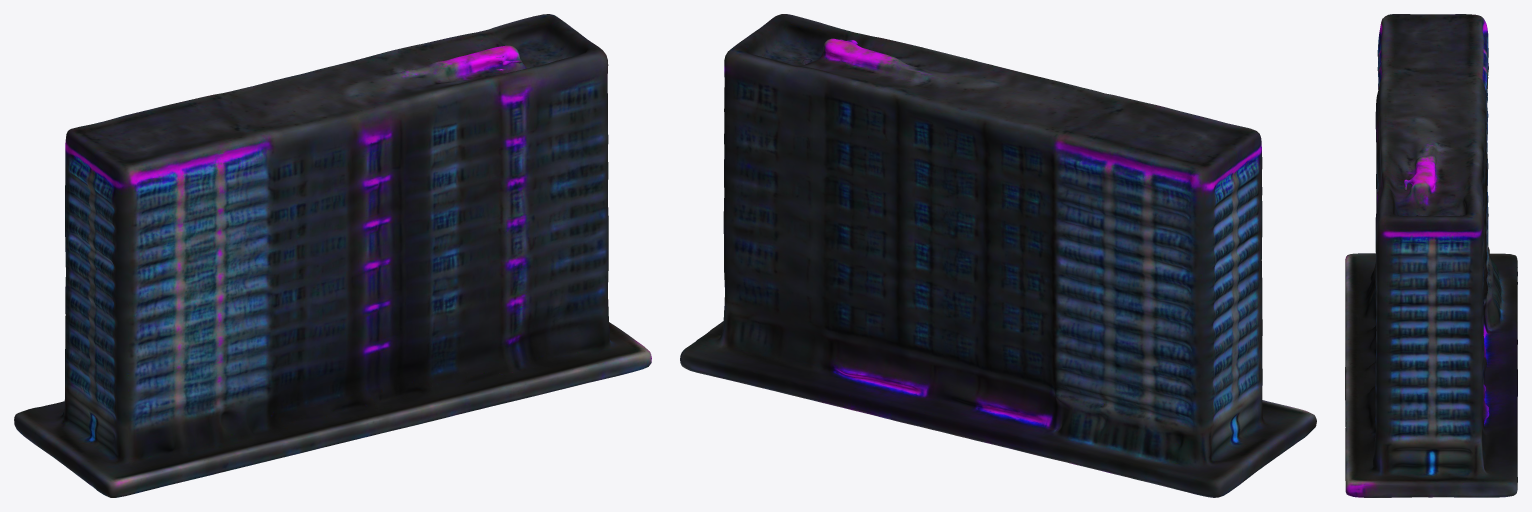
Rendered from 1df16f0b15e5_a_tall__minimalist_futuristic_sk.glb.
3 views of the same model, side by side, from view 1: azimuth 30°, elevation 25°; view 2: azimuth 150°, elevation 25°; view 3: azimuth 270°, elevation 25° (orthographic). The views are drawn at different scales.
Visible parts, largest first — view 1: geometry_0; view 2: geometry_0; view 3: geometry_0.
Part boxes in pixels (box(x1,y1,x2,y2)): geometry_0: box(14, 14, 651, 497); geometry_0: box(680, 14, 1316, 497); geometry_0: box(1345, 14, 1517, 497).
Size of the model in its own units: 0.5168 by 0.286 by 0.163.
1 material, 1 textured.
